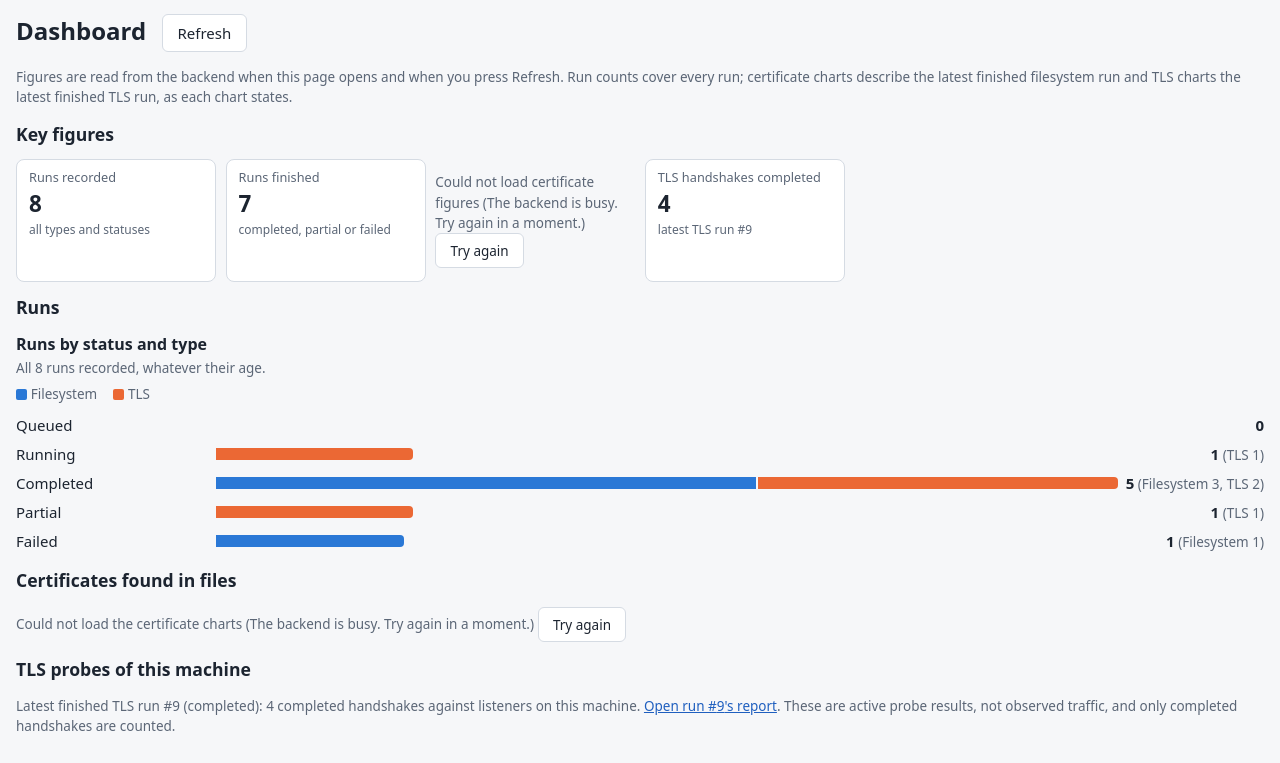
Test: loading and failure › one failing request does not blank the others, and Try again recovers it
Expected: the text "Could not load the certificate charts" is shown, left=16, top=607, right=626, bottom=642
Expected: the element "Runs by status and type" is shown, left=16, top=332, right=1264, bottom=555
Click the button "Try again" below "certificate figures" at (480, 251), box left=435, top=233, right=524, bottom=268
(page scrolled)
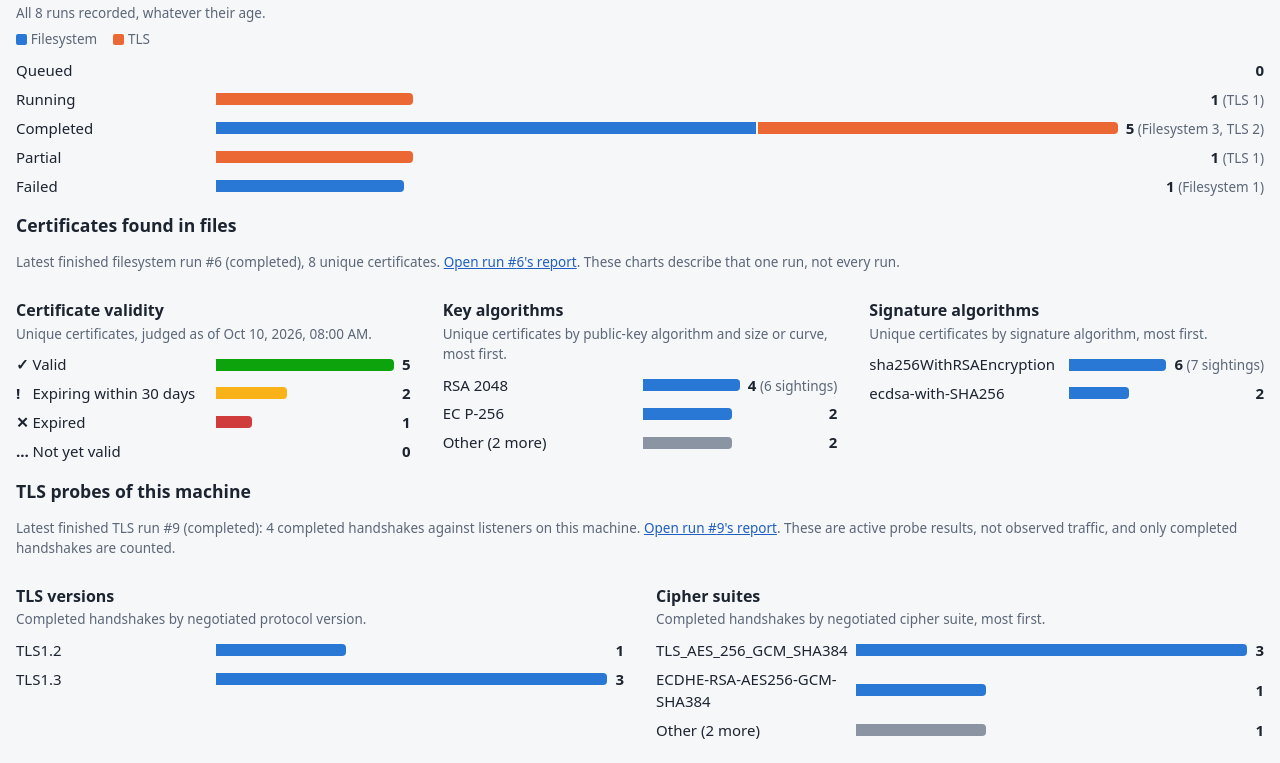
Now the element "Certificate validity" is shown, box left=16, top=298, right=411, bottom=466
Now the text "Could not load the certificate charts" is gone
